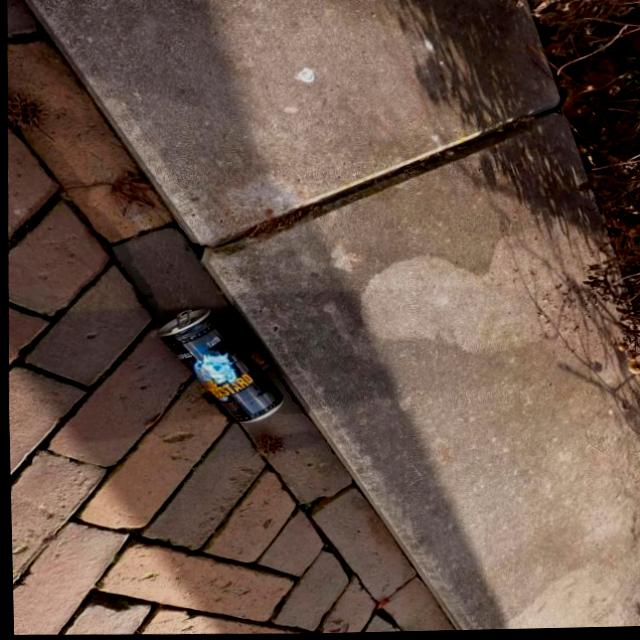Can-Metal: (147, 304, 289, 429)
